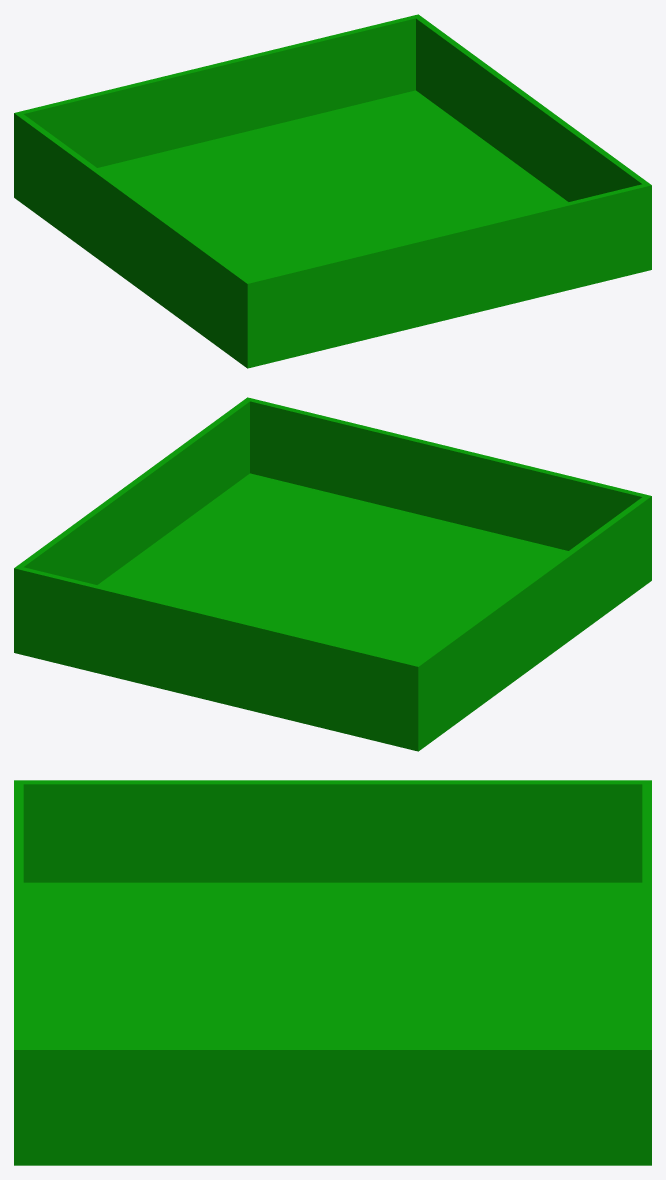
The model's file is bin.dae.
3 views of the same model, one above another, from view 1: azimuth 30°, elevation 25°; view 2: azimuth 150°, elevation 25°; view 3: azimuth 270°, elevation 25° (orthographic). The views are drawn at different scales.
Parts seen in each view (by area): view 1: Cube; view 2: Cube; view 3: Cube.
Boxes of the visible parts, x1,y1,x2,y2 form: Cube: [14, 14, 651, 368]; Cube: [14, 397, 651, 751]; Cube: [14, 780, 651, 1165].
Size of the model in its own units: 1 by 1 by 0.2.
